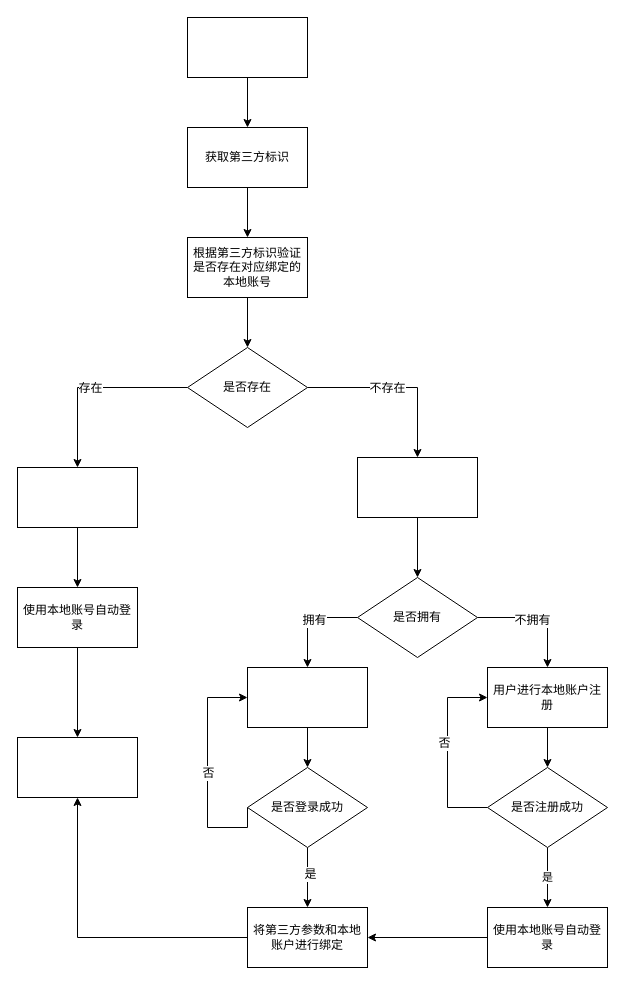
Image size: 625x985. Some labels were removed from this diagram. Here are the shapes that lost their labels. From the top down, the box of each, then its label:
(186, 16, 308, 78): 用户使用第三方进行登录
(16, 466, 138, 528): 查找本地账号
(356, 456, 478, 518): 用户选择是否已经拥有本地账号
(246, 666, 368, 728): 用户输入本地账号登录
(16, 736, 138, 798): 登录成功
